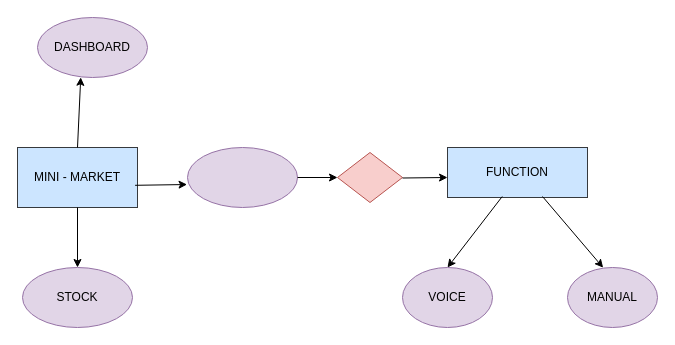
Some shapes in this 675 by 345 pixel diagram are drawn without their labels. Here are the shapes that lost their labels. From the top down, the centre of each, then its label:
At pixel 242 177: "PRODUCTS".
At pixel 369 177: "HAS".
